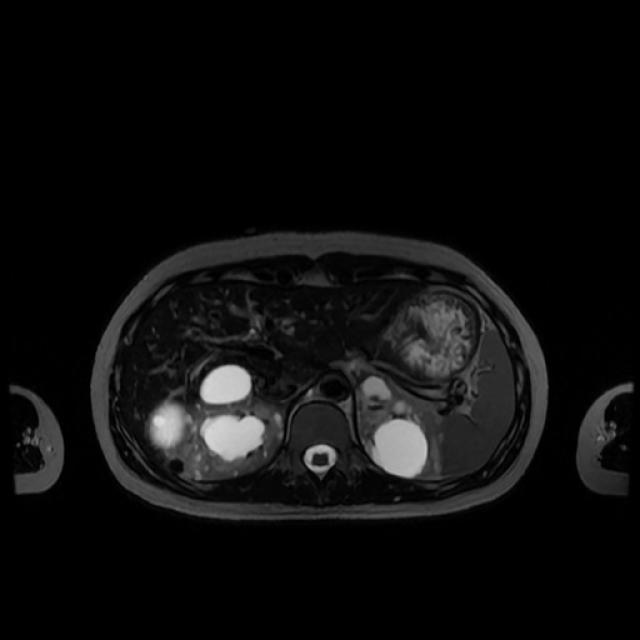sag: (145, 364, 287, 480)
sol: (356, 373, 445, 480)
